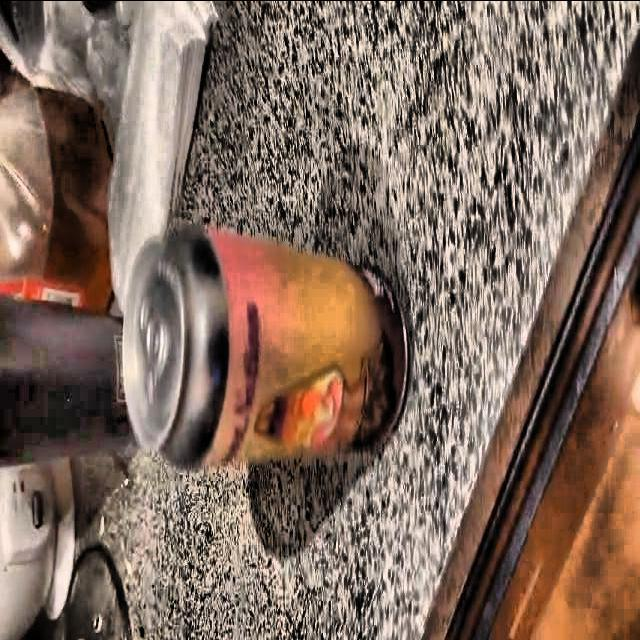litter: (118, 218, 419, 475)
